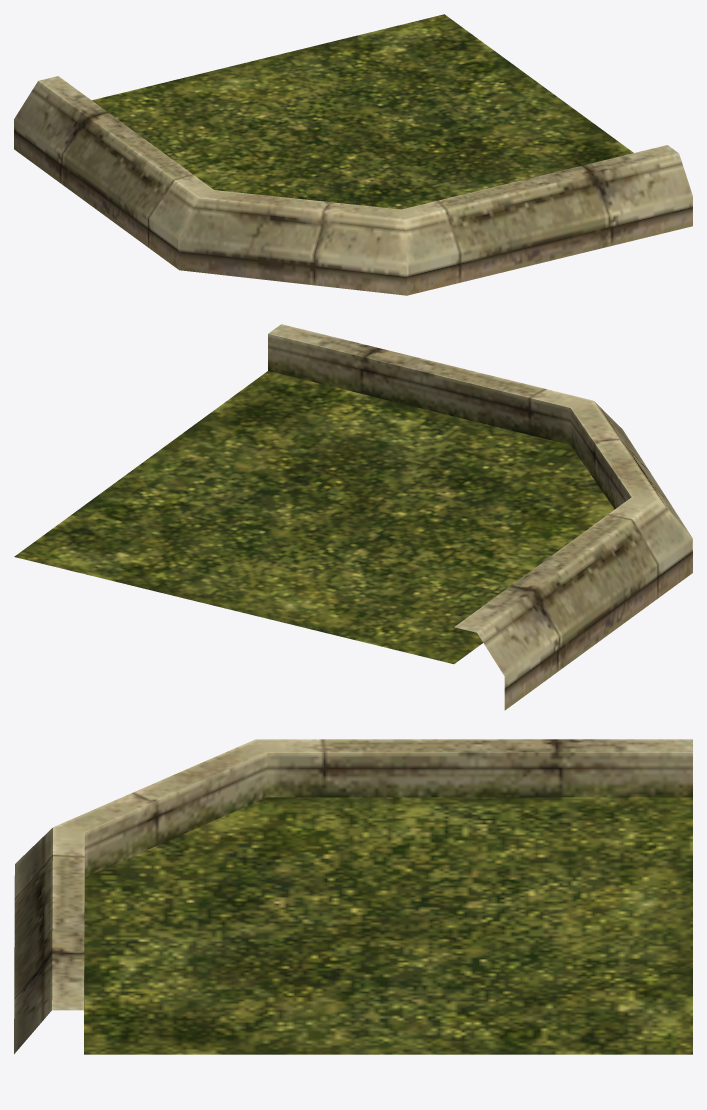
The model's file is OZ_22_ns_Garden01A.glb.
The picture shows the model from 3 angles, top to bottom: view 1: azimuth 30°, elevation 25°; view 2: azimuth 150°, elevation 25°; view 3: azimuth 270°, elevation 25°; orthographic projection. The views are drawn at different scales.
Parts seen in each view (by area): view 1: OM_22_ns_Garden01A; view 2: OM_22_ns_Garden01A; view 3: OM_22_ns_Garden01A.
Boxes of the visible parts, box(x1,y1,x2,y2) form: OM_22_ns_Garden01A: box(14, 14, 692, 295); OM_22_ns_Garden01A: box(14, 324, 692, 710); OM_22_ns_Garden01A: box(14, 739, 692, 1054).
Size of the model in its own units: 3 by 0.4166 by 3.
1 material, 1 textured.
